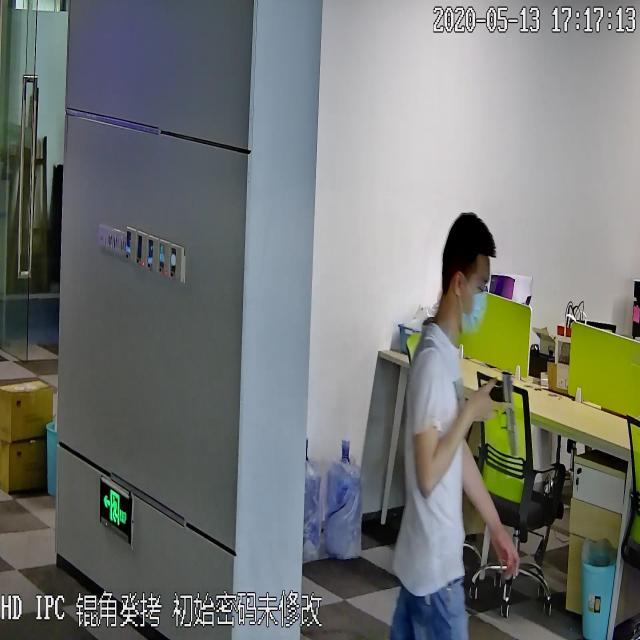gun: (477, 368, 521, 461)
